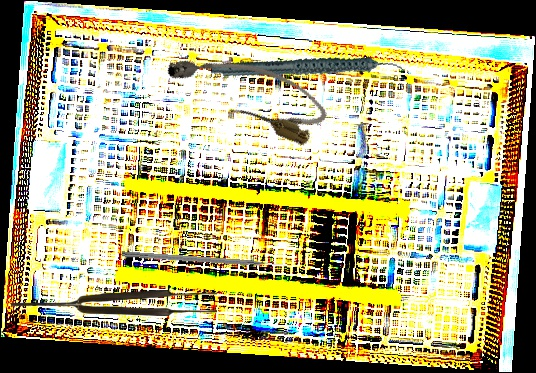Cannula: (159, 30, 335, 151)
Handpiece: (210, 24, 406, 114)
Hook Surgical: (121, 251, 287, 270)
Tissue Forceps: (11, 290, 217, 316)
